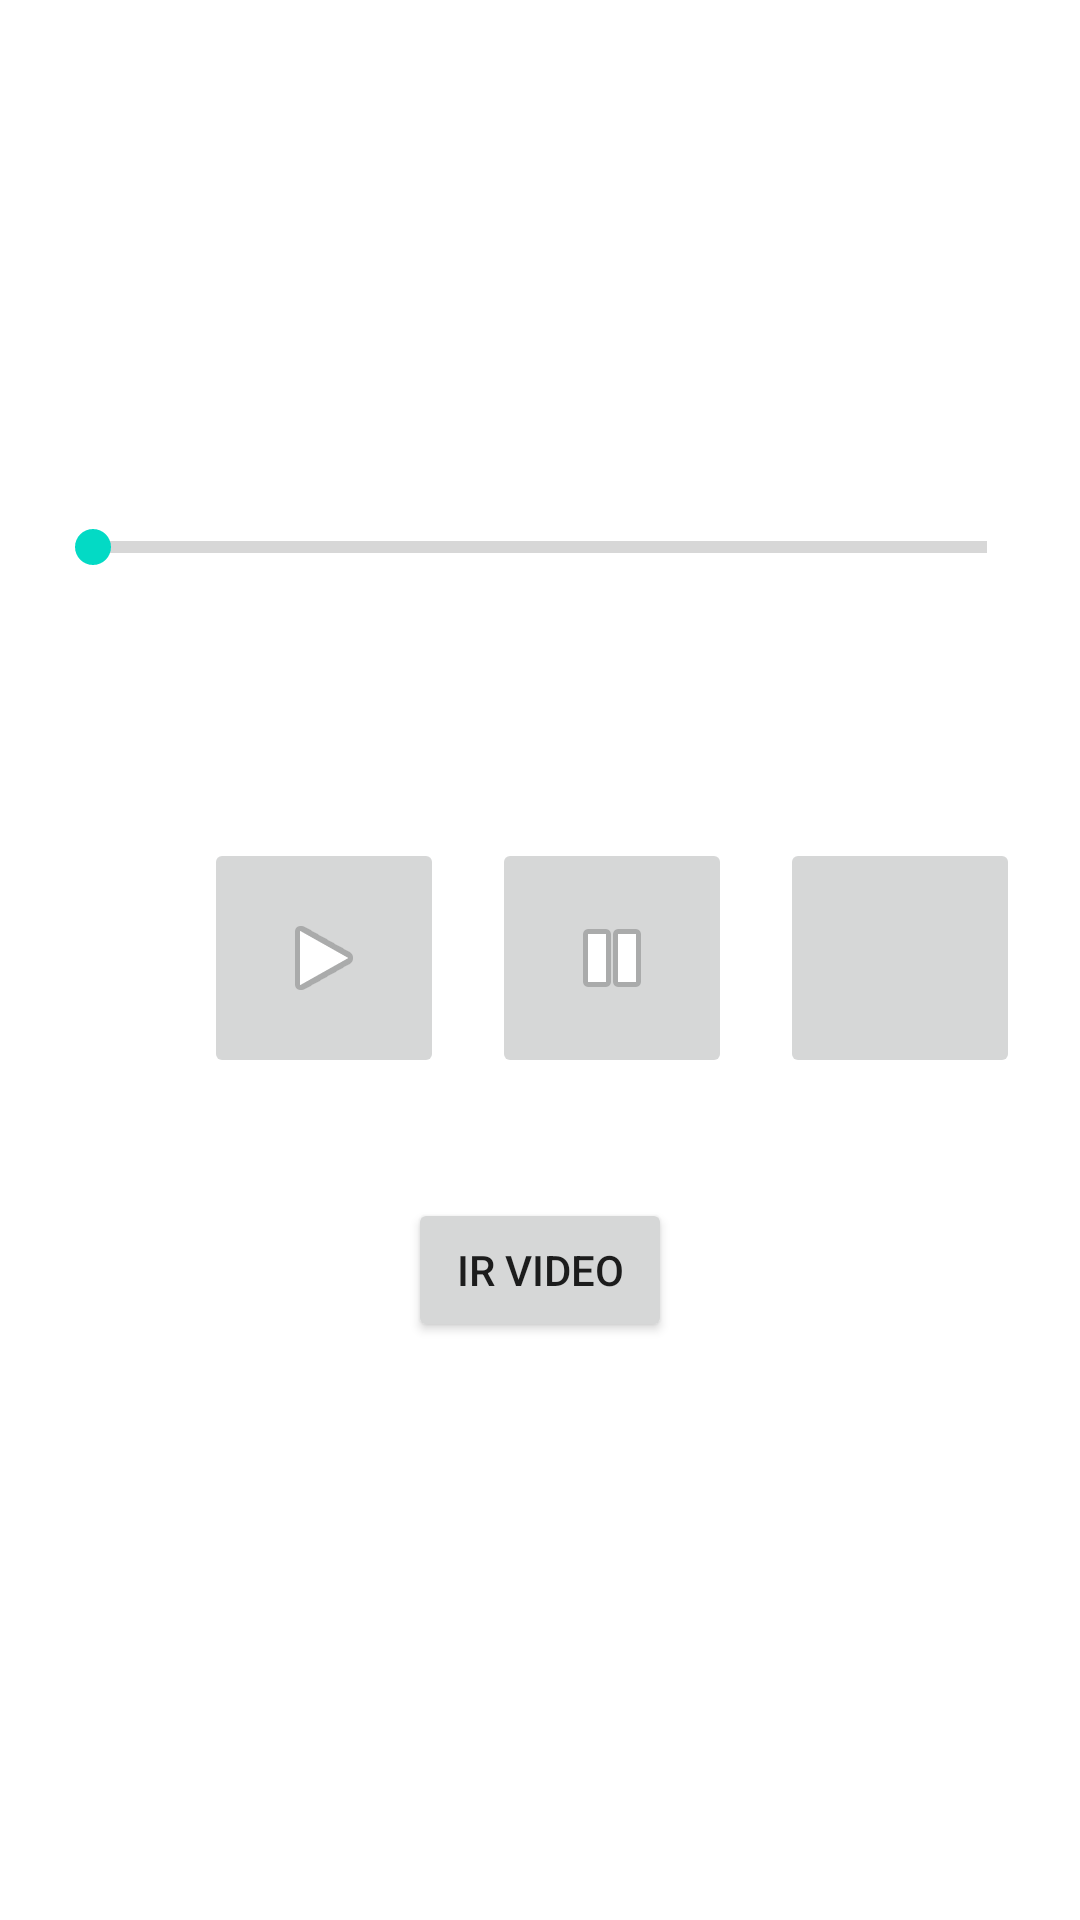

Screen size 1080px x 1920px. Icon name, then its box in pixels as (x1, y1, x2, y2):
pause: (504, 856, 720, 1060)
play: (216, 856, 432, 1060)
